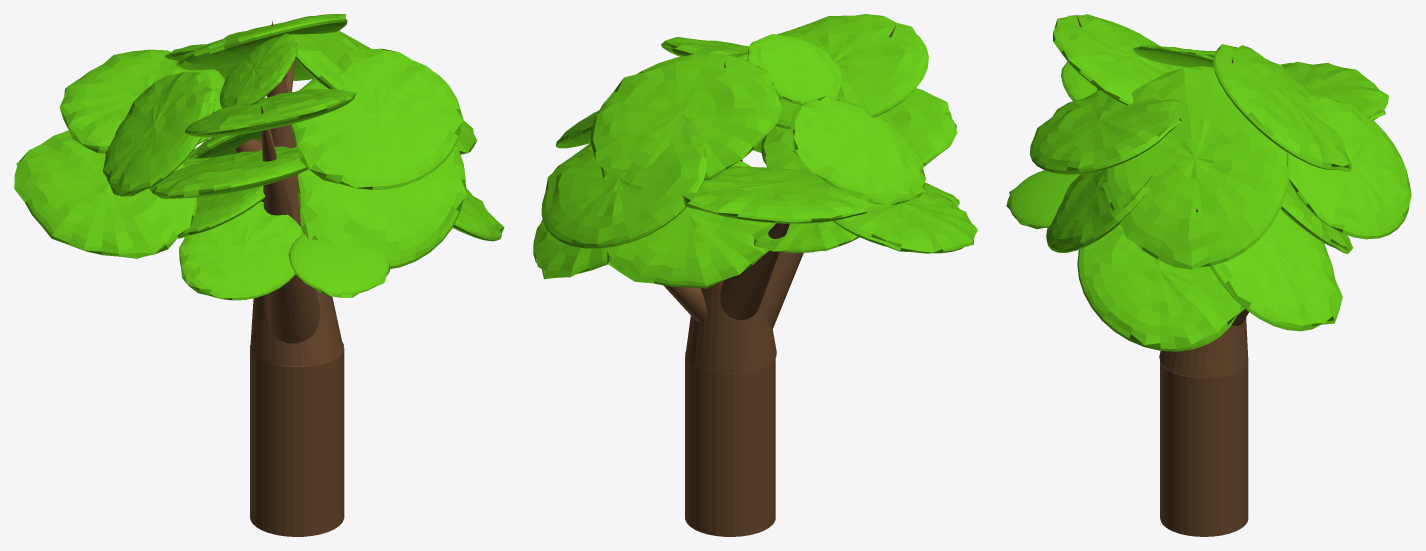
Rendered from tree.glb.
3 renders of one model, left to right at view 1: azimuth 30°, elevation 25°; view 2: azimuth 150°, elevation 25°; view 3: azimuth 270°, elevation 25°, orthographic. The views are drawn at different scales.
Parts seen in each view (by area): view 1: Sphere.005, Cylinder, Cone; view 2: Sphere.005, Cylinder, Cone; view 3: Sphere.005, Cylinder, Cone.
Part boxes in pixels (bbox=[...]): Sphere.005: bbox=[14, 14, 504, 300]; Cylinder: bbox=[250, 342, 344, 536]; Cone: bbox=[235, 20, 343, 365]; Sphere.005: bbox=[533, 14, 977, 288]; Cylinder: bbox=[685, 351, 775, 536]; Cone: bbox=[603, 26, 895, 373]; Sphere.005: bbox=[1006, 14, 1411, 351]; Cylinder: bbox=[1160, 360, 1248, 536]; Cone: bbox=[1076, 15, 1248, 377].
Bounding box in the file's own units: 9.85 × 10.81 × 8.62.
Materials: 3 (3 with a texture image).
